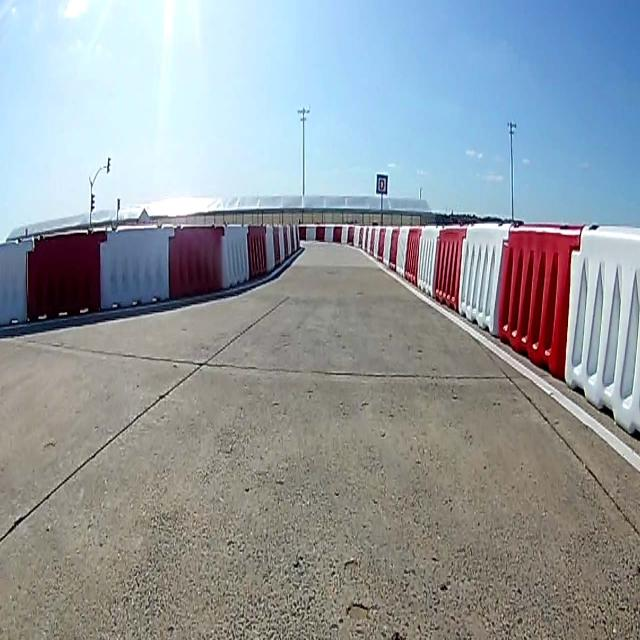durak: (376, 171, 388, 193)
